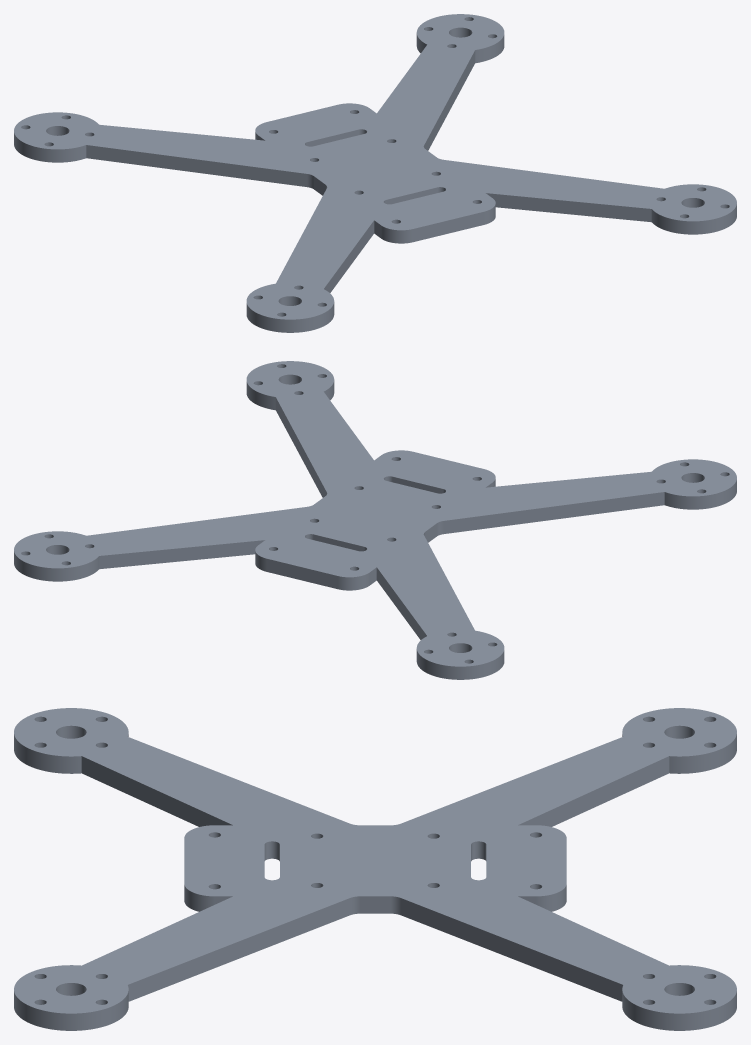
The model's file is step-3.glb.
The picture shows the model from 3 angles, top to bottom: view 1: azimuth 30°, elevation 25°; view 2: azimuth 150°, elevation 25°; view 3: azimuth 270°, elevation 25°; orthographic projection. The views are drawn at different scales.
Parts seen in each view (by area): view 1: face_ee83b25690168d82620f, face_1eca755a6b4b61118afb, face_26f04b5ba8c4c64ad49c, face_4f3c9539508e3cad428e, face_9bbac5e47ae6c59cab32, face_721785cbc0f2ac752816, face_30252e9dc4903821870c, face_97546d7d8c22b6db1eca, face_203e33fe93fe7c0330a2, face_a346b2020efb87b89e30; view 2: face_ee83b25690168d82620f, face_c32ef5f191d23a5f25ee, face_328ebcda5ebc6377554e, face_721785cbc0f2ac752816, face_a346b2020efb87b89e30, face_4f3c9539508e3cad428e, face_7ceab784dc5cdd2fa632, face_104e0ba5e9348109e449, face_d9580afbd3a582c25e43, face_9bbac5e47ae6c59cab32; view 3: face_ee83b25690168d82620f, face_104e0ba5e9348109e449, face_97546d7d8c22b6db1eca, face_203e33fe93fe7c0330a2, face_d9580afbd3a582c25e43, face_9bbac5e47ae6c59cab32, face_a346b2020efb87b89e30, face_4f3c9539508e3cad428e, face_721785cbc0f2ac752816, face_6648624dcd30c89af184.
Part boxes in pixels (x1,y1,x2,y2): face_ee83b25690168d82620f: (14, 14, 736, 319); face_1eca755a6b4b61118afb: (86, 145, 307, 186); face_26f04b5ba8c4c64ad49c: (486, 193, 651, 222); face_4f3c9539508e3cad428e: (246, 302, 334, 332); face_9bbac5e47ae6c59cab32: (651, 204, 736, 234); face_721785cbc0f2ac752816: (14, 133, 86, 162); face_30252e9dc4903821870c: (413, 212, 483, 242); face_97546d7d8c22b6db1eca: (424, 50, 475, 150); face_203e33fe93fe7c0330a2: (324, 220, 374, 292); face_a346b2020efb87b89e30: (416, 33, 504, 63); face_ee83b25690168d82620f: (14, 361, 736, 666); face_c32ef5f191d23a5f25ee: (443, 492, 664, 533); face_328ebcda5ebc6377554e: (99, 540, 264, 569); face_721785cbc0f2ac752816: (416, 649, 504, 679); face_a346b2020efb87b89e30: (14, 551, 99, 581); face_4f3c9539508e3cad428e: (664, 480, 736, 509); face_7ceab784dc5cdd2fa632: (267, 559, 337, 589); face_104e0ba5e9348109e449: (275, 397, 326, 497); face_d9580afbd3a582c25e43: (376, 567, 426, 639); face_9bbac5e47ae6c59cab32: (246, 380, 334, 410); face_ee83b25690168d82620f: (14, 708, 736, 1013); face_104e0ba5e9348109e449: (128, 898, 349, 1001); face_97546d7d8c22b6db1eca: (401, 898, 622, 1001); face_203e33fe93fe7c0330a2: (81, 756, 232, 826); face_d9580afbd3a582c25e43: (518, 756, 669, 826); face_9bbac5e47ae6c59cab32: (14, 991, 128, 1030); face_a346b2020efb87b89e30: (622, 991, 736, 1030); face_4f3c9539508e3cad428e: (14, 734, 128, 773); face_721785cbc0f2ac752816: (622, 734, 736, 773); face_6648624dcd30c89af184: (360, 896, 390, 913).
Size of the model in its own units: 0.1891 by 0.005 by 0.1891.
